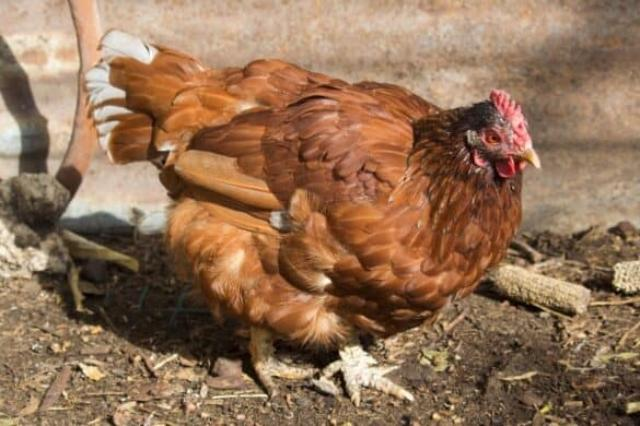Chicken: (82, 27, 543, 408)
